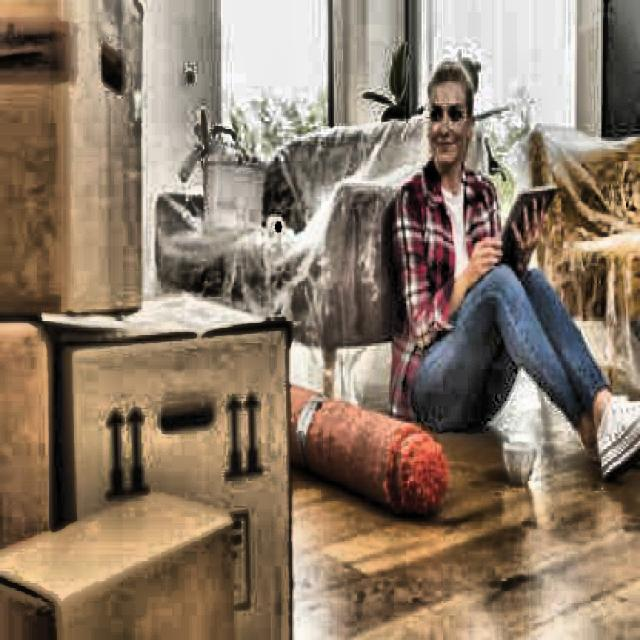Cardbox: (4, 307, 296, 636)
